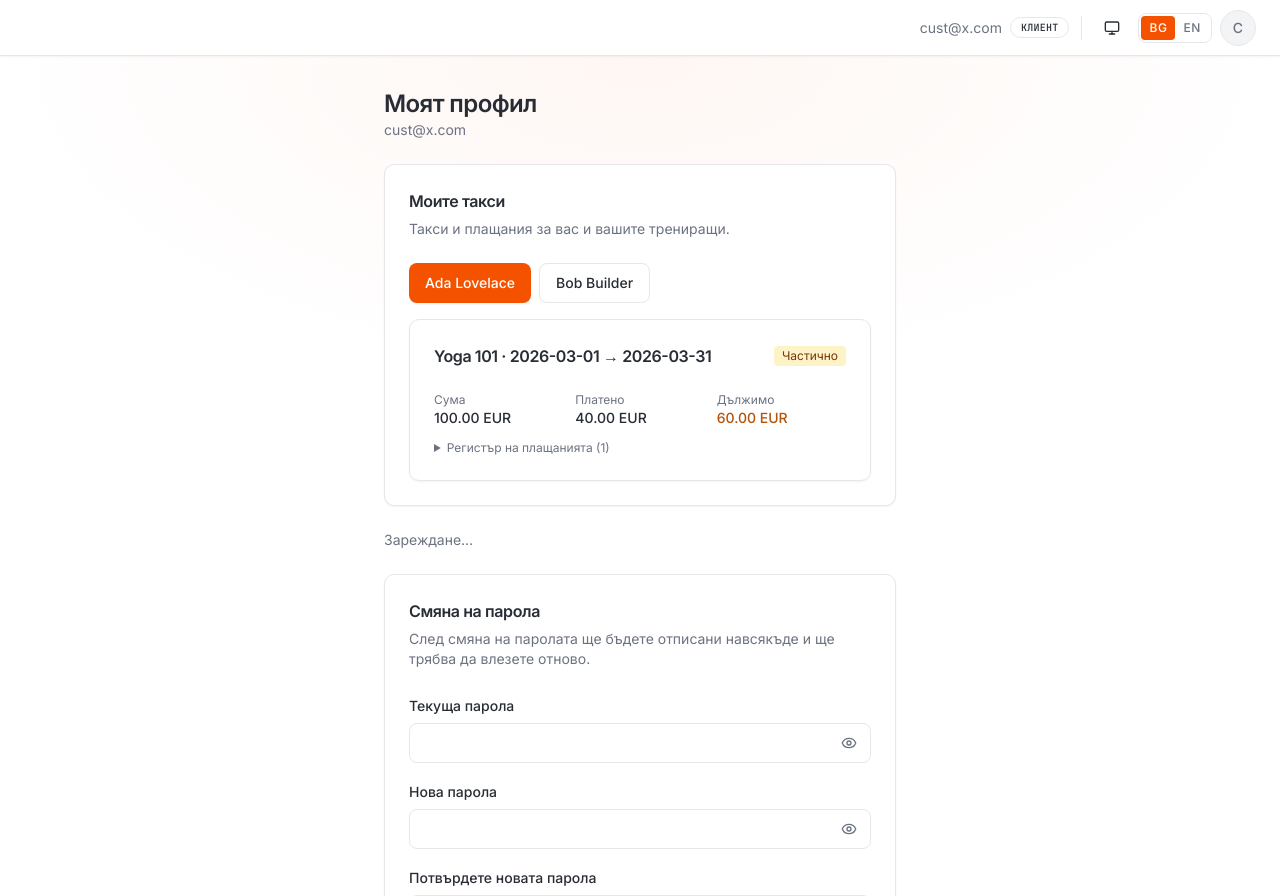
Test case: ProfilePage — customer fees tab › shows a tab per child and filters to the selected one
Expected: the text "Yoga 101 · 2026-03-01 → 2026-03-31" is shown, [434,344,711,368]
Expected: the button "Ada Lovelace" is shown, [409,263,531,303]
Click the button "Bob Builder".
click(594, 283)  # box [539,263,650,303]
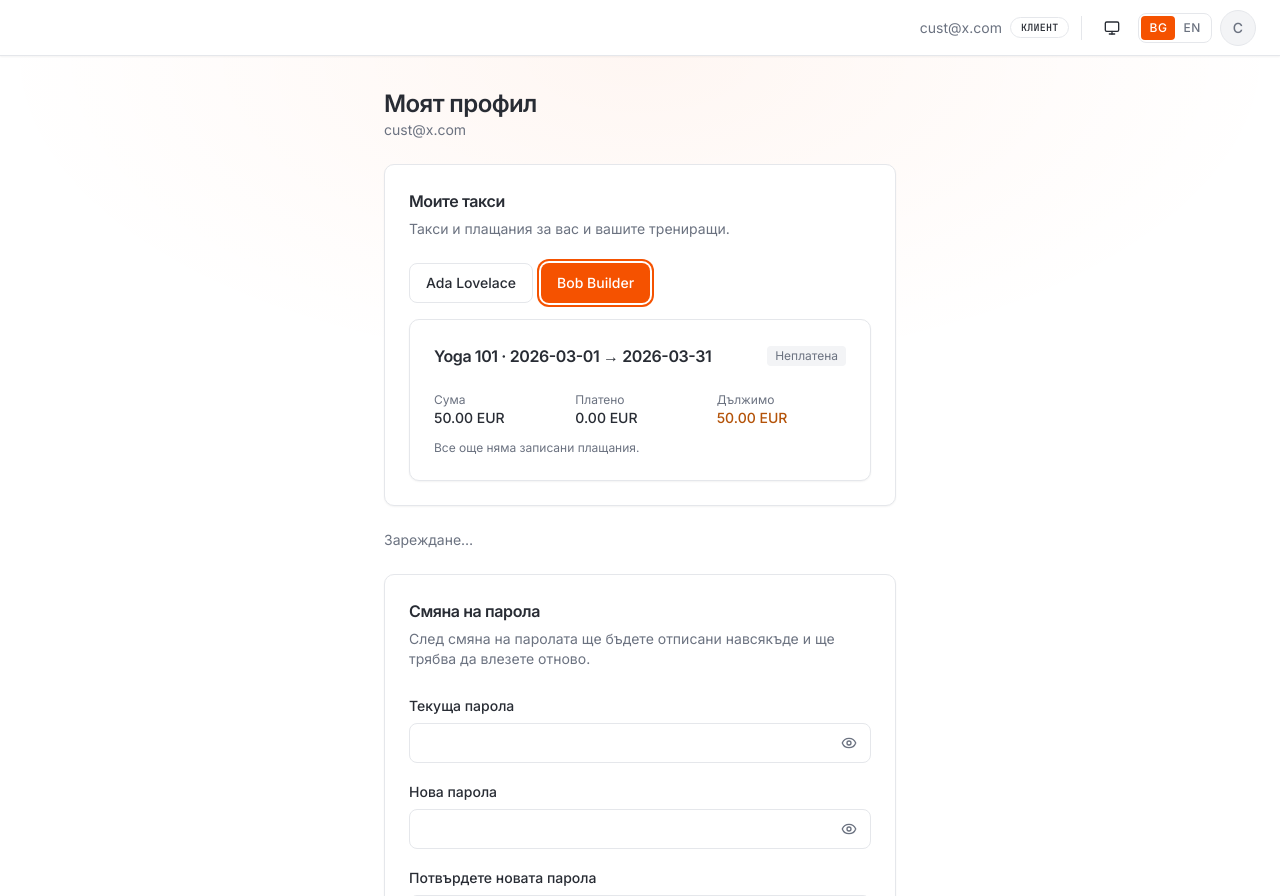
Result: the text "Неплатена" is shown at [767,346,846,366]
Result: the text "Частично" is gone
